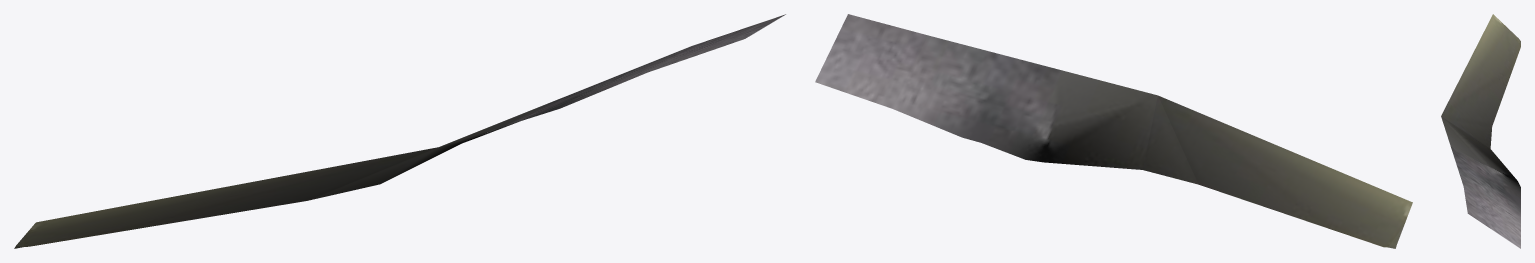
3 renders of one model, left to right at view 1: azimuth 30°, elevation 25°; view 2: azimuth 150°, elevation 25°; view 3: azimuth 270°, elevation 25°, orthographic. The views are drawn at different scales.
Size of the model in its own units: 2.95 by 0.3413 by 0.4372.
Materials: 1 (1 with a texture image).
